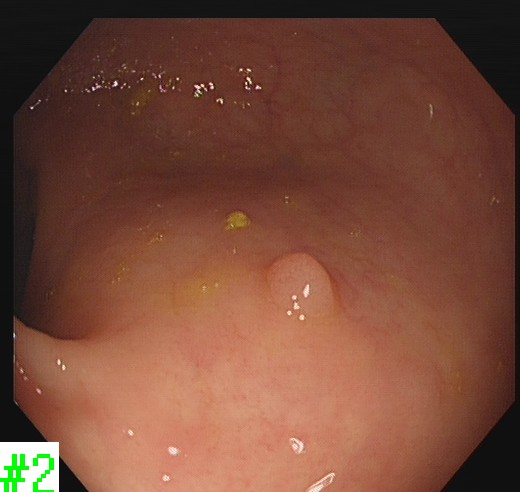adenoma: (262, 248, 339, 321)
